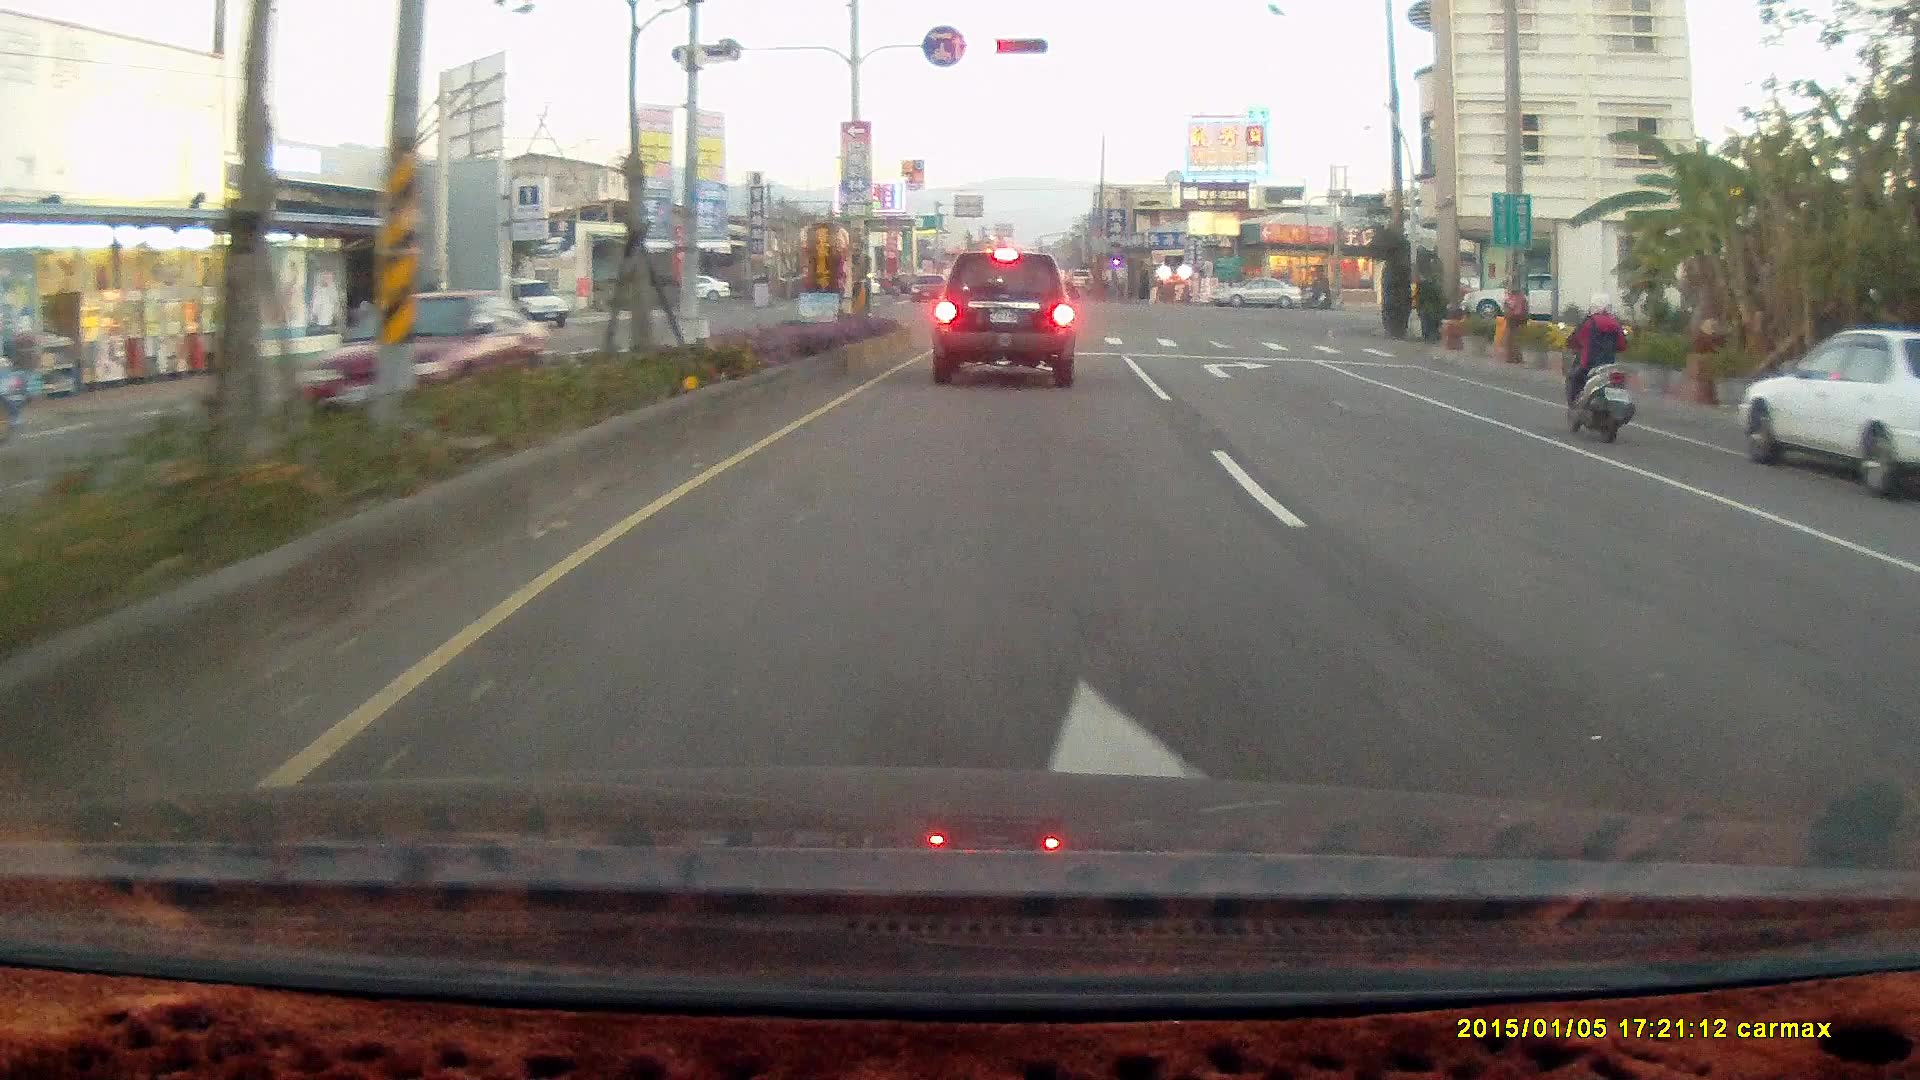rider: (1553, 291, 1635, 446), (1299, 273, 1329, 311)
vehicle: (1735, 326, 1920, 500), (1736, 330, 1920, 500), (931, 248, 1079, 387), (1896, 493, 1920, 836), (1459, 270, 1582, 325), (1883, 528, 1920, 690), (1208, 279, 1304, 316), (500, 278, 570, 328), (1207, 274, 1300, 309)
